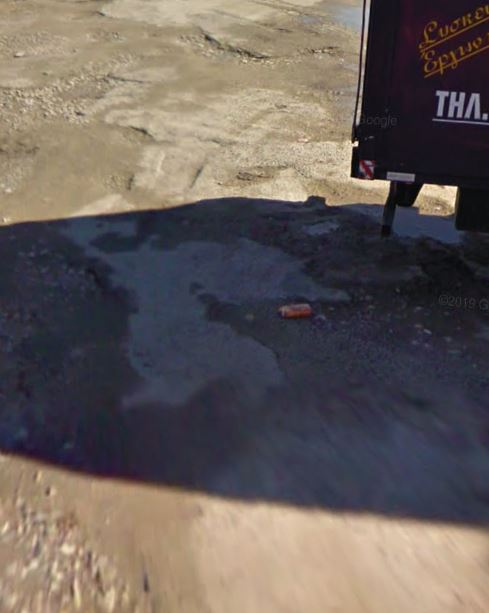trash: (274, 295, 320, 322)
